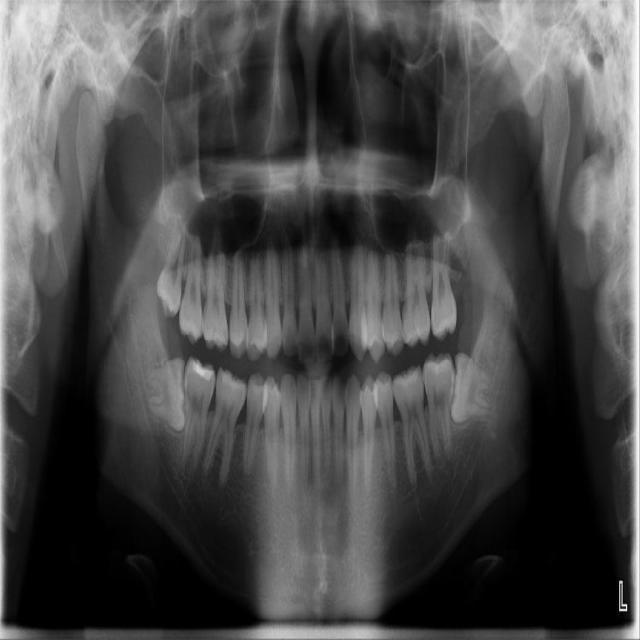3M ESPE Implant: (154, 217, 188, 319)
52: (174, 353, 224, 409)
73: (595, 579, 604, 597)
BioHorizons Implant: (431, 231, 457, 343)
Biomet 3i Implant: (446, 351, 494, 424)
Blue Sky Bio Implant: (422, 352, 455, 460)
Caries: (179, 228, 204, 345)
Implant: (182, 354, 217, 468)
Keystone Dental Implant: (145, 357, 190, 431)
